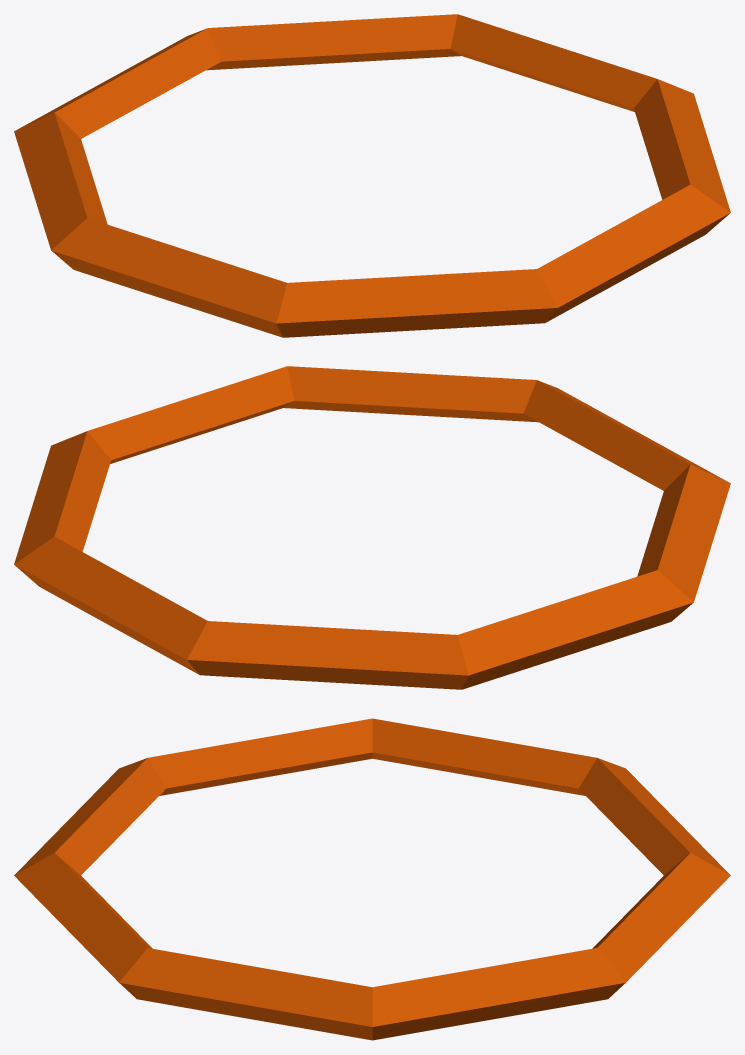
Rendered from fixhoop.dae.
The picture shows the model from 3 angles, top to bottom: view 1: azimuth 30°, elevation 25°; view 2: azimuth 150°, elevation 25°; view 3: azimuth 270°, elevation 25°; orthographic projection. The views are drawn at different scales.
Visible parts, largest first — view 1: Circle; view 2: Circle; view 3: Circle.
Boxes of the visible parts, <box> form: Circle: <box>14,14,730,337</box>; Circle: <box>14,366,730,689</box>; Circle: <box>14,718,730,1040</box>.
Size of the model in its own units: 2 by 2 by 0.1439.
